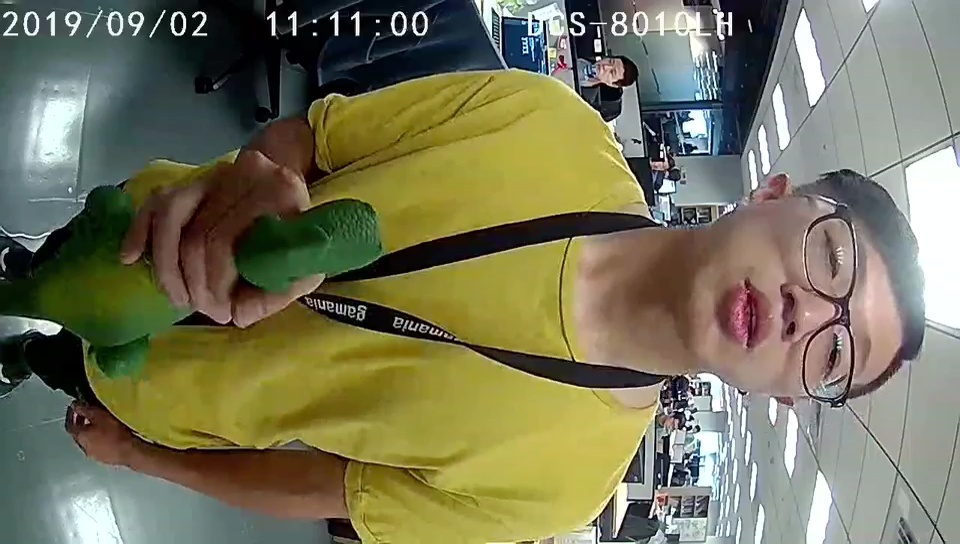rex: (58, 196, 380, 377)
